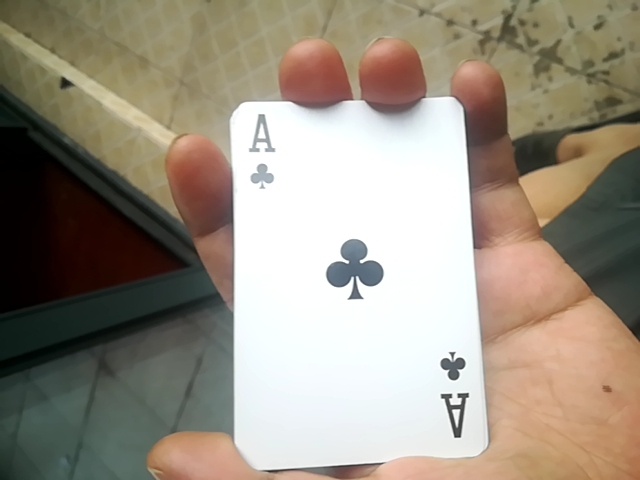mh a: (236, 99, 483, 469)
